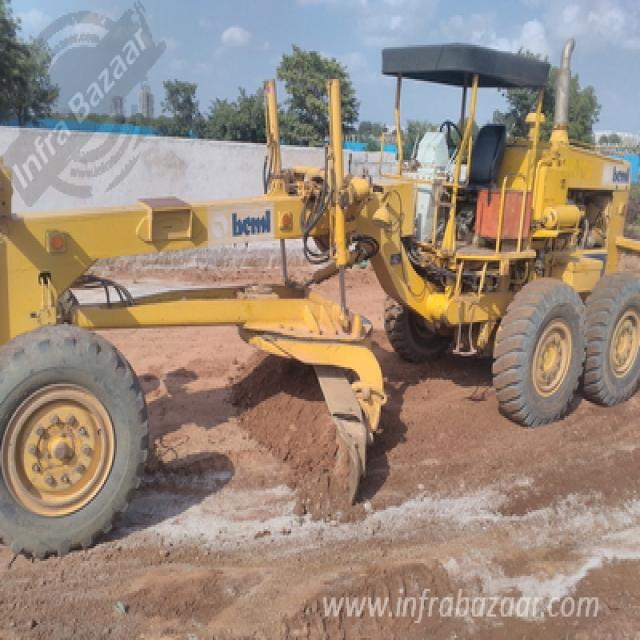buldozerpayloadergrader: (0, 34, 640, 546)
